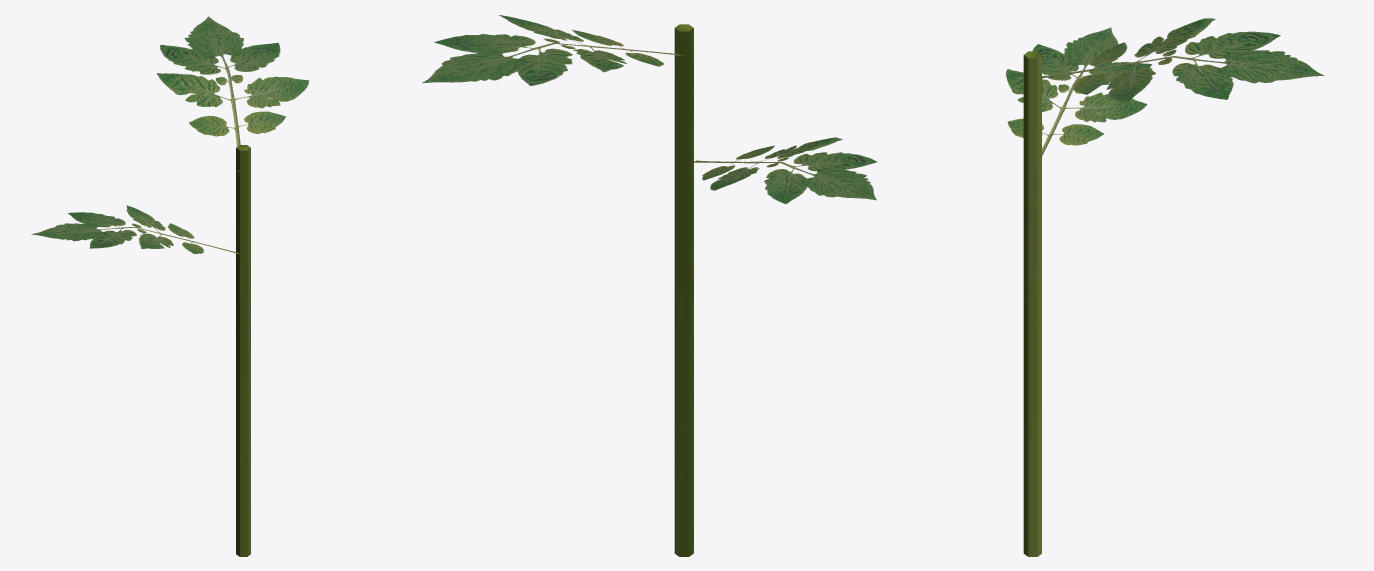
Rendered from Plant_stage_02.fbx.
3 renders of one model, left to right at view 1: azimuth 30°, elevation 25°; view 2: azimuth 150°, elevation 25°; view 3: azimuth 270°, elevation 25°, orthographic. The views are drawn at different scales.
Parts seen in each view (by area): view 1: Plant_Stage_02; view 2: Plant_Stage_02; view 3: Plant_Stage_02.
Boxes of the visible parts, box(x1,y1,x2,y2) form: Plant_Stage_02: box(31, 16, 309, 556); Plant_Stage_02: box(422, 15, 877, 556); Plant_Stage_02: box(1005, 18, 1324, 556).
Size of the model in its own units: 4.33 by 5.37 by 6.4.
